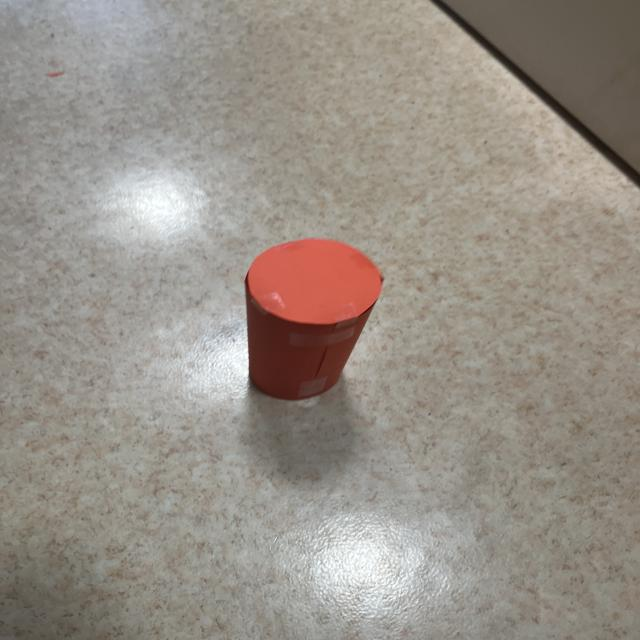przeszkoda: (245, 239, 382, 400)
